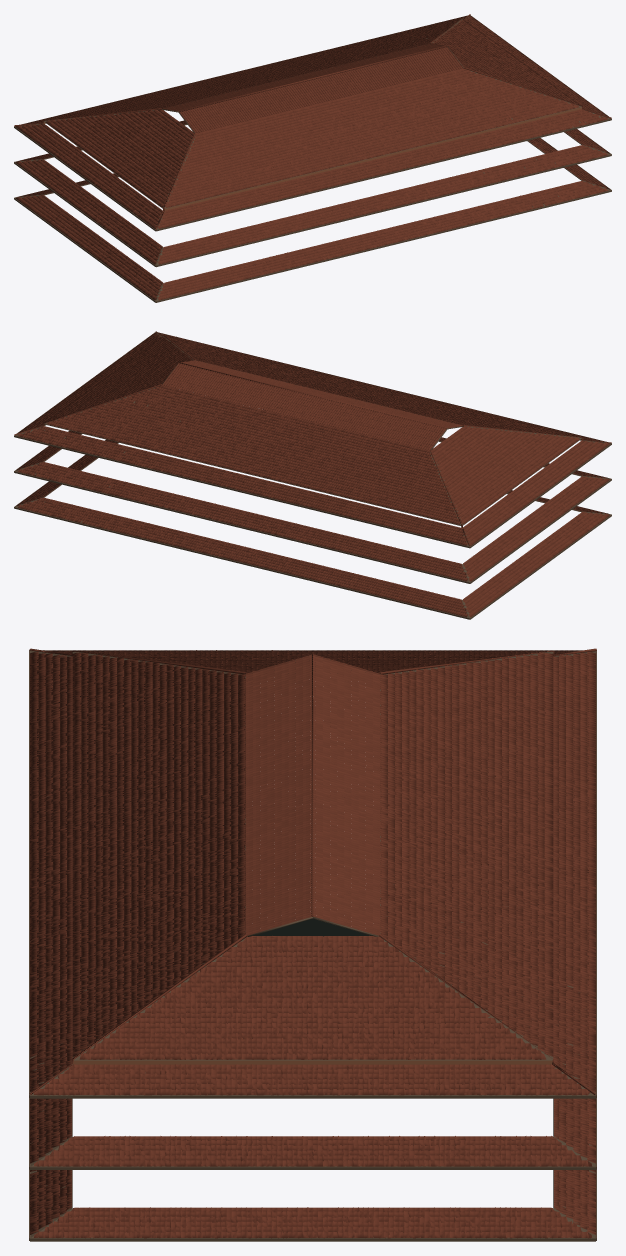
The model's file is cubiertas_movil.glb.
3 renders of one model, top to bottom at view 1: azimuth 30°, elevation 25°; view 2: azimuth 150°, elevation 25°; view 3: azimuth 270°, elevation 25°, orthographic. The views are drawn at different scales.
Parts seen in each view (by area): view 1: Clay terracotta 04, Clay terracotta 03, Clay terracotta 00, Clay terracotta 05, Clay terracotta 08, Clay terracotta 06, Clay terracotta 01, Clay terracotta 02, Clay terracotta 07, Dark stained roof timber, Clay-colored vertical attic fascia; view 2: Clay terracotta 04, Clay terracotta 08, Clay terracotta 03, Clay terracotta 07, Clay terracotta 05, Clay terracotta 00, Clay terracotta 02, Clay terracotta 01, Clay terracotta 06, Dark stained roof timber; view 3: Clay terracotta 04, Clay terracotta 08, Clay terracotta 03, Clay terracotta 01, Clay terracotta 05, Clay terracotta 02, Clay terracotta 00, Clay terracotta 07, Clay terracotta 06, Dark stained roof timber, Clay-colored vertical attic fascia, Dark ventilation recess.
Boxes of the visible parts, x1,y1,x2,y2 form: Clay terracotta 04: (14,14,611,298); Clay terracotta 03: (16,16,609,298); Clay terracotta 00: (19,16,609,299); Clay terracotta 05: (19,17,607,298); Clay terracotta 08: (16,17,607,297); Clay terracotta 06: (17,17,608,299); Clay terracotta 01: (15,17,608,300); Clay terracotta 02: (16,16,607,300); Clay terracotta 07: (15,16,605,298); Dark stained roof timber: (14,15,611,302); Clay-colored vertical attic fascia: (43,107,581,210); Clay terracotta 04: (14,331,611,614); Clay terracotta 08: (17,333,610,614); Clay terracotta 03: (16,334,609,616); Clay terracotta 07: (18,334,609,617); Clay terracotta 05: (18,332,608,616); Clay terracotta 00: (16,332,608,611); Clay terracotta 02: (18,334,607,616); Clay terracotta 01: (20,335,609,614); Clay terracotta 06: (16,332,609,615); Dark stained roof timber: (14,332,611,619); Clay terracotta 04: (29,648,596,1238); Clay terracotta 08: (30,650,595,1238); Clay terracotta 03: (30,650,595,1238); Clay terracotta 01: (30,650,595,1238); Clay terracotta 05: (30,650,595,1238); Clay terracotta 02: (30,650,595,1238); Clay terracotta 00: (30,650,595,1238); Clay terracotta 07: (30,650,595,1238); Clay terracotta 06: (30,650,595,1237); Dark stained roof timber: (29,650,596,1241); Clay-colored vertical attic fascia: (72,1060,552,1064); Dark ventilation recess: (253,662,371,936).
Bounding box in the file's own units: 48.8 × 11.99 × 26.31.
